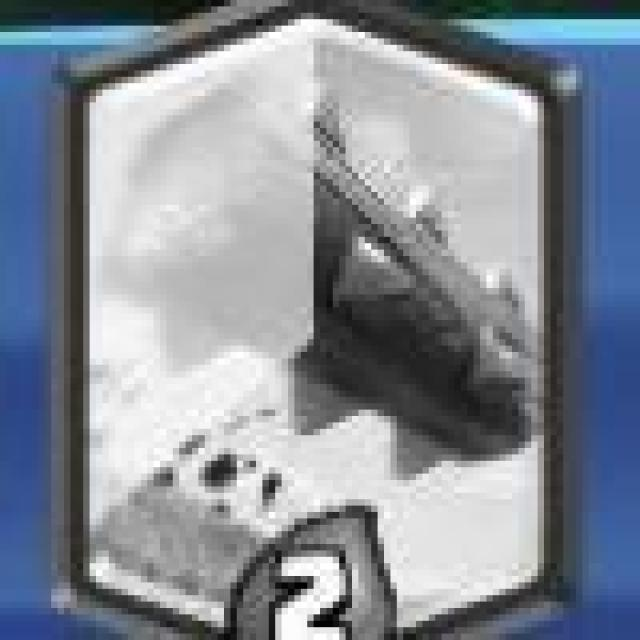Log: (61, 0, 572, 640)
